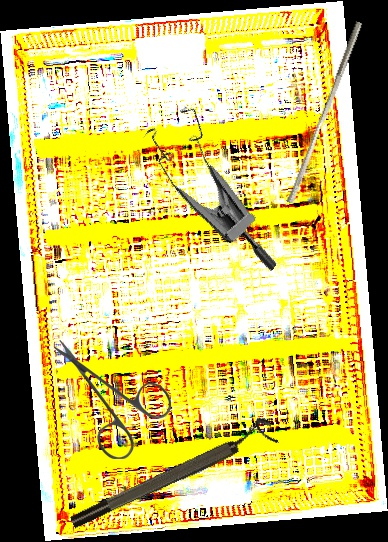Fixation Ring: (64, 414, 279, 533)
Iris Scissors: (54, 340, 171, 459)
Pusher: (285, 18, 364, 207)
Speculum: (121, 94, 323, 273)
